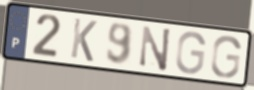2: (31, 13, 64, 60)
9: (105, 21, 133, 68)
G: (209, 34, 243, 80), (174, 29, 207, 76)
K: (68, 16, 99, 64)
N: (138, 24, 173, 74)
